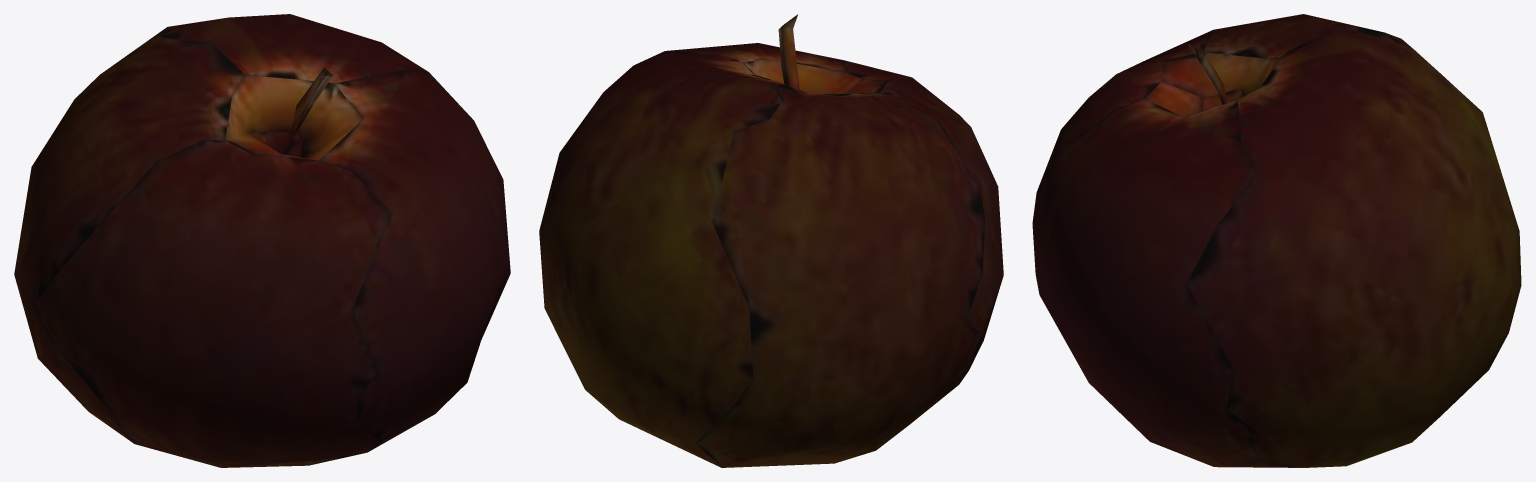
File: food_apple_01.glb
The picture shows the model from 3 angles, left to right: view 1: azimuth 30°, elevation 25°; view 2: azimuth 150°, elevation 25°; view 3: azimuth 270°, elevation 25°; orthographic projection. The views are drawn at different scales.
Parts seen in each view (by area): view 1: food_apple_01; view 2: food_apple_01; view 3: food_apple_01.
Boxes of the visible parts, left/top/right/bottom form: food_apple_01: left=14, top=14, right=510, bottom=467; food_apple_01: left=539, top=14, right=1003, bottom=467; food_apple_01: left=1032, top=14, right=1521, bottom=467.
Bounding box in the file's own units: 0.0973 × 0.0841 × 0.0953.
Materials: 1 (1 with a texture image).
